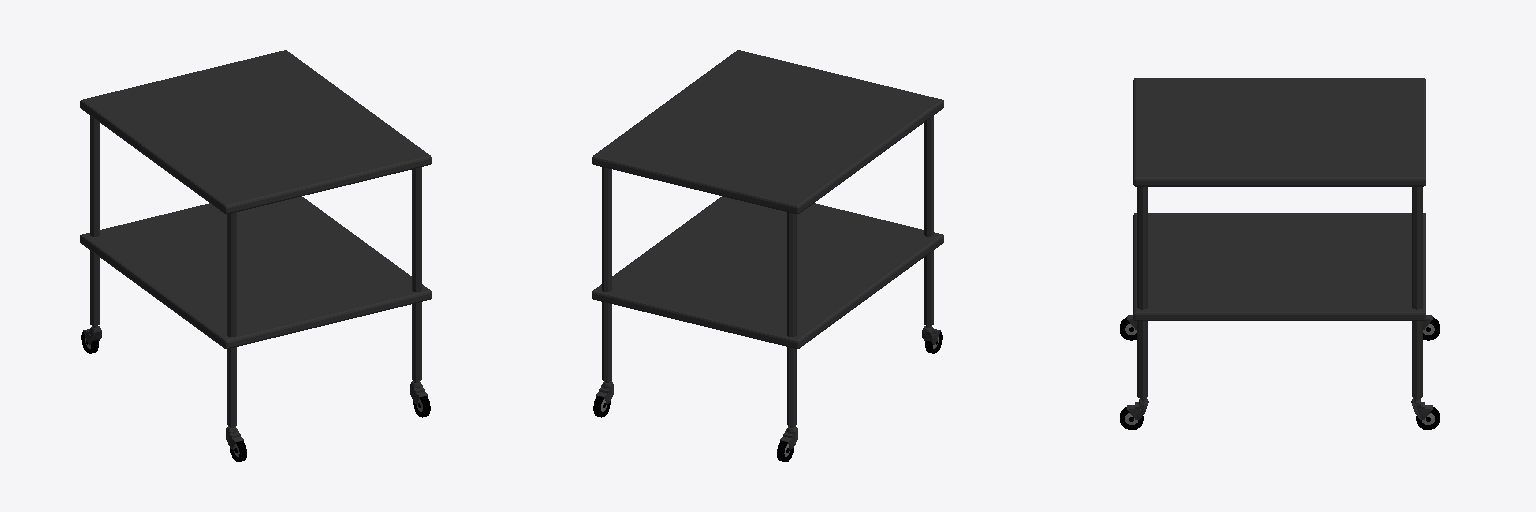
The model's file is WheelieTable.obj.
3 renders of one model, left to right at view 1: azimuth 30°, elevation 25°; view 2: azimuth 150°, elevation 25°; view 3: azimuth 270°, elevation 25°, orthographic.
Visible parts, largest first — view 1: pCube3; view 2: pCube3; view 3: pCube3.
Part boxes in pixels (left/top/right/bottom): pCube3: left=80, top=50, right=431, bottom=461; pCube3: left=592, top=50, right=943, bottom=461; pCube3: left=1120, top=78, right=1439, bottom=429.
Bounding box in the file's own units: 5.6 × 6.63 × 7.51.